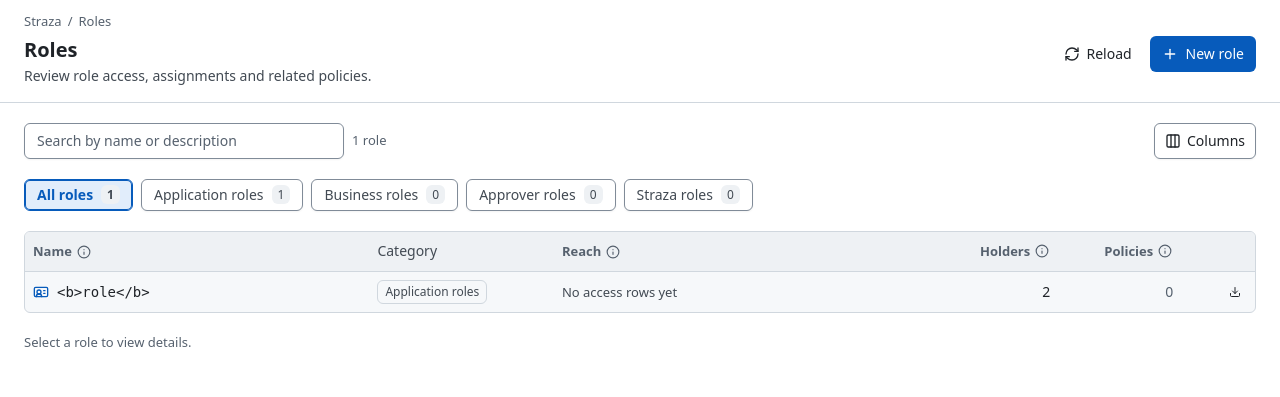
Test: the Roles list › renders names and descriptions as text, including in the category view
Check: the button with aria-label "Open <b>role</b>" is shown, box [25,272,1255,312]
Click the button "Application roles 1" at {"x": 222, "y": 194}, box [141,178,304,210]
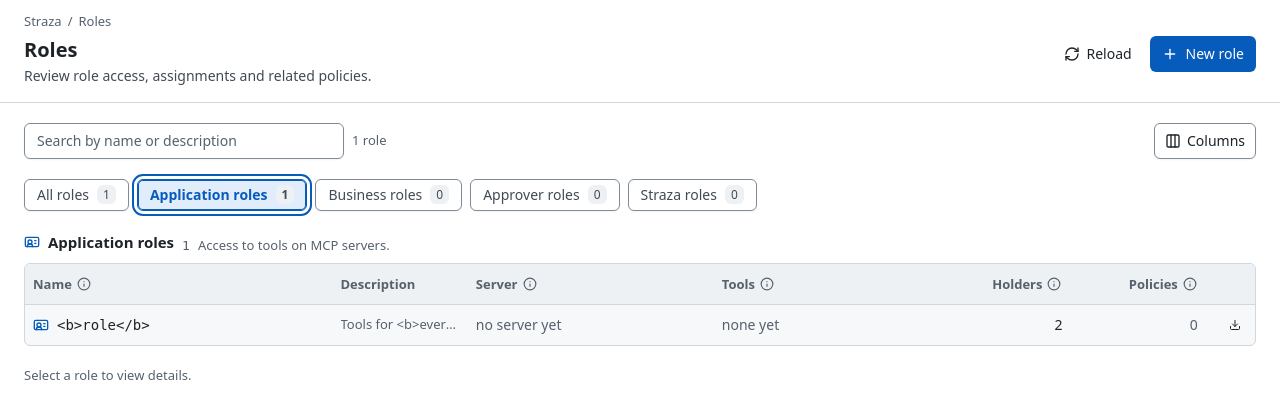
Check: the text "Tools for <b>everyone</b>" is shown, box [340,316,460,334]
